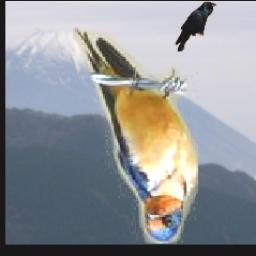Crow: (176, 2, 217, 52)
Swallow: (74, 29, 199, 245)
